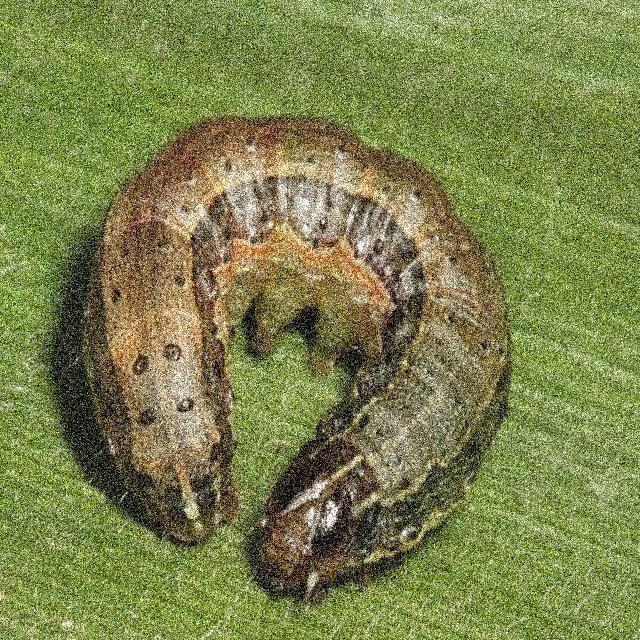gusano_cogollero: (75, 103, 518, 594)
